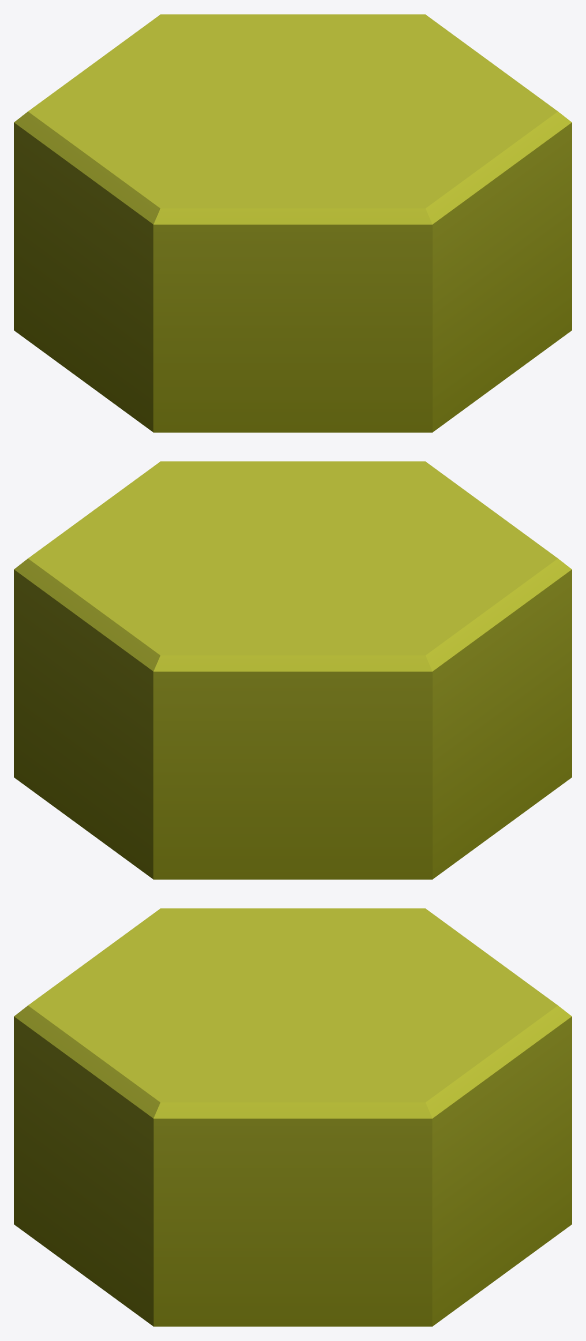
Rendered from hex_grass_draco.glb.
3 views of the same model, one above another, from view 1: azimuth 30°, elevation 25°; view 2: azimuth 150°, elevation 25°; view 3: azimuth 270°, elevation 25° (orthographic).
Visible parts, largest first — view 1: hex_grass; view 2: hex_grass; view 3: hex_grass.
Boxes of the visible parts, x1,y1,x2,y2 form: hex_grass: (14,14,571,432); hex_grass: (14,461,571,879); hex_grass: (14,908,571,1326).
Size of the model in its own units: 2 by 1 by 2.31.
Materials: 1 (1 with a texture image).
